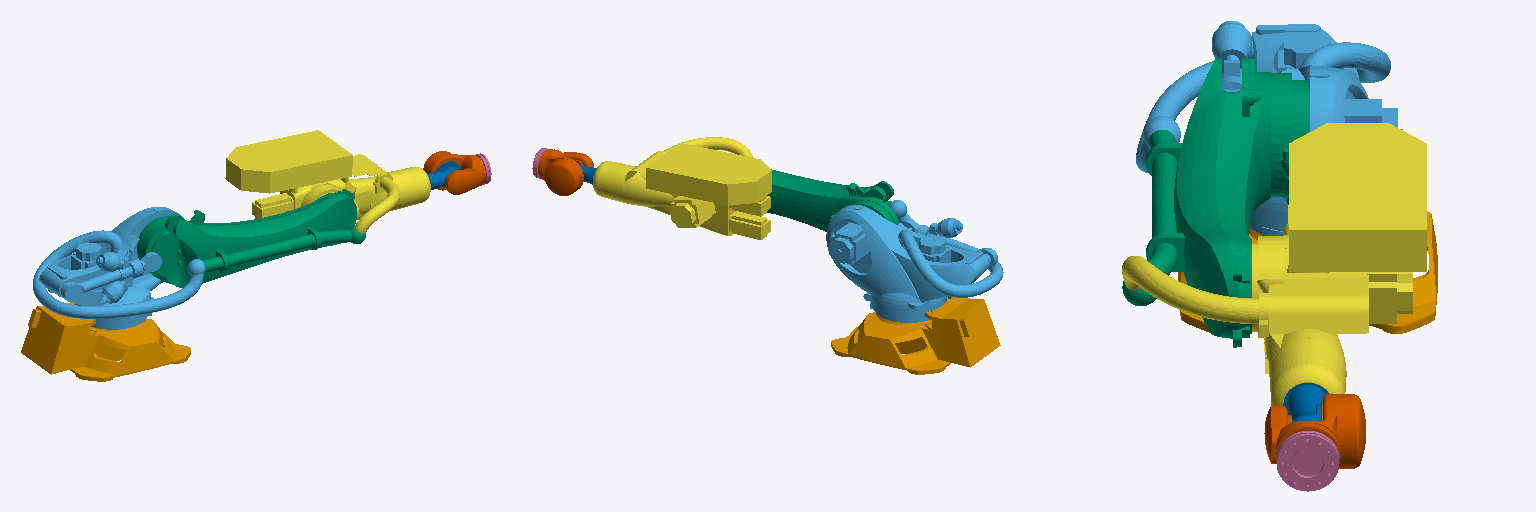
robot.urdf — kuka_kr300r2500pro:
<?xml version="1.0" ?>
<!-- =================================================================================== -->
<!-- |    This document was autogenerated by xacro from kr300r2500pro.xacro            | -->
<!-- |    EDITING THIS FILE BY HAND IS NOT RECOMMENDED                                 | -->
<!-- =================================================================================== -->
<!--Generates a urdf from the macro in kr300r2500pro_macro.xacro -->
<robot name="kuka_kr300r2500pro" xmlns:xacro="http://wiki.ros.org/xacro">
  <link name="base_link">
    <inertial>
      <origin rpy="0 0 0" xyz="0 0 0"/>
      <mass value="2"/>
      <inertia ixx="0.01" ixy="0" ixz="0" iyy="0.01" iyz="0" izz="0.01"/>
    </inertial>
    <visual>
      <origin rpy="0 0 0" xyz="0 0 0"/>
      <geometry>
        <mesh filename="package://kuka_kr300_support/meshes/kr300r2500pro/visual/base_link.stl"/>
      </geometry>
    </visual>
    <collision>
      <origin rpy="0 0 0" xyz="0 0 0"/>
      <geometry>
        <mesh filename="package://kuka_kr300_support/meshes/kr300r2500pro/collision/base_link.stl"/>
      </geometry>
    </collision>
  </link>
  <link name="link_1">
    <inertial>
      <origin rpy="0 0 0" xyz="0 0 0"/>
      <mass value="2"/>
      <inertia ixx="0.01" ixy="0" ixz="0" iyy="0.01" iyz="0" izz="0.01"/>
    </inertial>
    <visual>
      <origin rpy="0 0 0" xyz="0 0 0"/>
      <geometry>
        <mesh filename="package://kuka_kr300_support/meshes/kr300r2500pro/visual/link_1.stl"/>
      </geometry>
    </visual>
    <collision>
      <origin rpy="0 0 0" xyz="0 0 0"/>
      <geometry>
        <mesh filename="package://kuka_kr300_support/meshes/kr300r2500pro/collision/link_1.stl"/>
      </geometry>
    </collision>
  </link>
  <link name="link_2">
    <inertial>
      <origin rpy="0 0 0" xyz="0 0 0"/>
      <mass value="2"/>
      <inertia ixx="0.01" ixy="0" ixz="0" iyy="0.01" iyz="0" izz="0.01"/>
    </inertial>
    <visual>
      <origin rpy="0 0 0" xyz="0 0 0"/>
      <geometry>
        <mesh filename="package://kuka_kr300_support/meshes/kr300r2500pro/visual/link_2.stl"/>
      </geometry>
    </visual>
    <collision>
      <origin rpy="0 0 0" xyz="0 0 0"/>
      <geometry>
        <mesh filename="package://kuka_kr300_support/meshes/kr300r2500pro/collision/link_2.stl"/>
      </geometry>
    </collision>
  </link>
  <link name="link_3">
    <inertial>
      <origin rpy="0 0 0" xyz="0 0 0"/>
      <mass value="2"/>
      <inertia ixx="0.01" ixy="0" ixz="0" iyy="0.01" iyz="0" izz="0.01"/>
    </inertial>
    <visual>
      <origin rpy="0 0 0" xyz="0 0 0"/>
      <geometry>
        <mesh filename="package://kuka_kr300_support/meshes/kr300r2500pro/visual/link_3.stl"/>
      </geometry>
    </visual>
    <collision>
      <origin rpy="0 0 0" xyz="0 0 0"/>
      <geometry>
        <mesh filename="package://kuka_kr300_support/meshes/kr300r2500pro/collision/link_3.stl"/>
      </geometry>
    </collision>
  </link>
  <link name="link_4">
    <inertial>
      <origin rpy="0 0 0" xyz="0 0 0"/>
      <mass value="2"/>
      <inertia ixx="0.01" ixy="0" ixz="0" iyy="0.01" iyz="0" izz="0.01"/>
    </inertial>
    <visual>
      <origin rpy="0 0 0" xyz="0 0 0"/>
      <geometry>
        <mesh filename="package://kuka_kr300_support/meshes/kr300r2500pro/visual/link_4.stl"/>
      </geometry>
    </visual>
    <collision>
      <origin rpy="0 0 0" xyz="0 0 0"/>
      <geometry>
        <mesh filename="package://kuka_kr300_support/meshes/kr300r2500pro/collision/link_4.stl"/>
      </geometry>
    </collision>
  </link>
  <link name="link_5">
    <inertial>
      <origin rpy="0 0 0" xyz="0 0 0"/>
      <mass value="2"/>
      <inertia ixx="0.01" ixy="0" ixz="0" iyy="0.01" iyz="0" izz="0.01"/>
    </inertial>
    <visual>
      <origin rpy="0 0 0" xyz="0 0 0"/>
      <geometry>
        <mesh filename="package://kuka_kr300_support/meshes/kr300r2500pro/visual/link_5.stl"/>
      </geometry>
    </visual>
    <collision>
      <origin rpy="0 0 0" xyz="0 0 0"/>
      <geometry>
        <mesh filename="package://kuka_kr300_support/meshes/kr300r2500pro/collision/link_5.stl"/>
      </geometry>
    </collision>
  </link>
  <link name="link_6">
    <inertial>
      <origin rpy="0 0 0" xyz="0 0 0"/>
      <mass value="2"/>
      <inertia ixx="0.01" ixy="0" ixz="0" iyy="0.01" iyz="0" izz="0.01"/>
    </inertial>
    <visual>
      <origin rpy="0 0 0" xyz="0 0 0"/>
      <geometry>
        <mesh filename="package://kuka_kr300_support/meshes/kr300r2500pro/visual/link_6.stl"/>
      </geometry>
    </visual>
    <collision>
      <origin rpy="0 0 0" xyz="0 0 0"/>
      <geometry>
        <mesh filename="package://kuka_kr300_support/meshes/kr300r2500pro/collision/link_6.stl"/>
      </geometry>
    </collision>
  </link>
  <link name="tool0"/>
  <joint name="joint_a1" type="revolute">
    <origin rpy="0 0 0" xyz="0 0 0.675"/>
    <parent link="base_link"/>
    <child link="link_1"/>
    <axis xyz="0 0 -1"/>
    <limit effort="0" lower="-3.22885911619" upper="3.22885911619" velocity="2.72271363311"/>
  </joint>
  <joint name="joint_a2" type="revolute">
    <origin rpy="0 0 0" xyz="0.35 0 0"/>
    <parent link="link_1"/>
    <child link="link_2"/>
    <axis xyz="0 1 0"/>
    <limit effort="0" lower="-2.70526034059" upper="0.610865238198" velocity="2.72271363311"/>
  </joint>
  <joint name="joint_a3" type="revolute">
    <origin rpy="0 0 0" xyz="1.150 0 0"/>
    <parent link="link_2"/>
    <child link="link_3"/>
    <axis xyz="0 1 0"/>
    <limit effort="0" lower="-2.26892802759" upper="2.68780704807" velocity="2.72271363311"/>
  </joint>
  <joint name="joint_a4" type="revolute">
    <origin rpy="0 0 0" xyz="1.0 0 -0.041"/>
    <parent link="link_3"/>
    <child link="link_4"/>
    <axis xyz="-1 0 0"/>
    <limit effort="0" lower="-6.10865238198" upper="6.10865238198" velocity="5.75958653158"/>
  </joint>
  <joint name="joint_a5" type="revolute">
    <origin rpy="0 0 0" xyz="0 0 0"/>
    <parent link="link_4"/>
    <child link="link_5"/>
    <axis xyz="0 1 0"/>
    <limit effort="0" lower="-2.26892802759" upper="2.26892802759" velocity="5.75958653158"/>
  </joint>
  <joint name="joint_a6" type="revolute">
    <origin rpy="0 0 0" xyz="0 0 0"/>
    <parent link="link_5"/>
    <child link="link_6"/>
    <axis xyz="-1 0 0"/>
    <limit effort="0" lower="-6.10865238198" upper="6.10865238198" velocity="10.7337748998"/>
  </joint>
  <joint name="joint_a6-tool0" type="fixed">
    <parent link="link_6"/>
    <child link="tool0"/>
    <origin rpy="0 1.57079632679 0" xyz="0.240 0 0"/>
  </joint>
  <link name="base"/>
  <joint name="base_link-base" type="fixed">
    <origin rpy="0 0 0" xyz="0 0 0"/>
    <parent link="base_link"/>
    <child link="base"/>
  </joint>
</robot>

--- What the picture shows (computed from the rendered views, not written in the file) ---
3 views of the same robot in one strip: view 1: azimuth 30°, elevation 25°; view 2: azimuth 150°, elevation 25°; view 3: azimuth 270°, elevation 25° (orthographic).
Model kuka_kr300r2500pro with 9 links and 8 joints (6 revolute, 2 fixed), rooted at base_link, posed all joints at 0.
Links seen in each view (by area): view 1: link_3, link_1, link_2, base_link, link_5; view 2: link_1, link_3, base_link, link_2, link_5; view 3: link_3, link_2, link_1, link_5, link_6, base_link, link_4.
Link boxes in pixels (bbox=[...]): link_3: bbox=[225, 130, 430, 233]; link_1: bbox=[33, 207, 205, 329]; link_2: bbox=[137, 189, 365, 287]; base_link: bbox=[21, 302, 190, 381]; link_5: bbox=[423, 151, 485, 194]; link_1: bbox=[826, 200, 1003, 322]; link_3: bbox=[593, 137, 771, 239]; base_link: bbox=[831, 297, 1000, 374]; link_2: bbox=[767, 169, 898, 231]; link_5: bbox=[538, 149, 593, 195]; link_3: bbox=[1122, 123, 1426, 405]; link_2: bbox=[1122, 58, 1309, 347]; link_1: bbox=[1136, 21, 1402, 235]; link_5: bbox=[1264, 394, 1365, 468]; link_6: bbox=[1277, 431, 1338, 491]; base_link: bbox=[1178, 211, 1437, 333]; link_4: bbox=[1283, 383, 1328, 422].
Size in the robot's own frame: 3.32 by 1.01 by 1.01 metres.
Meshes: 7 distinct files referenced, 7 mesh visuals loaded (7 binary STL).